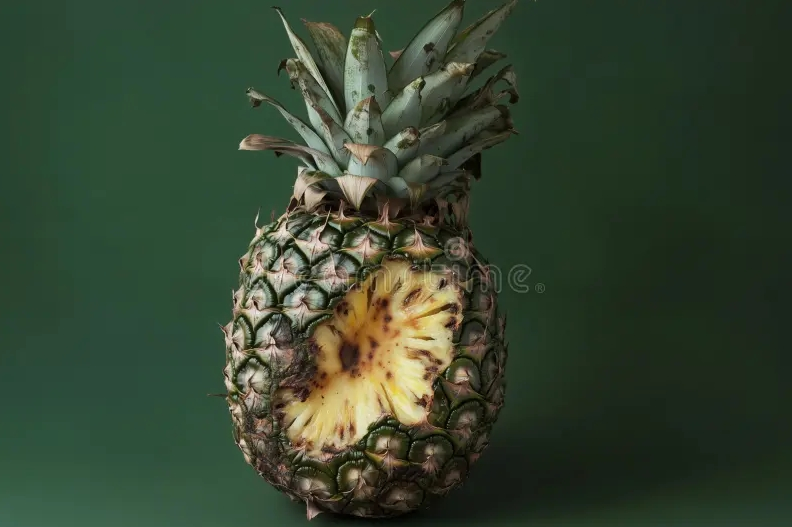rotten pineapple: (237, 21, 571, 492)
